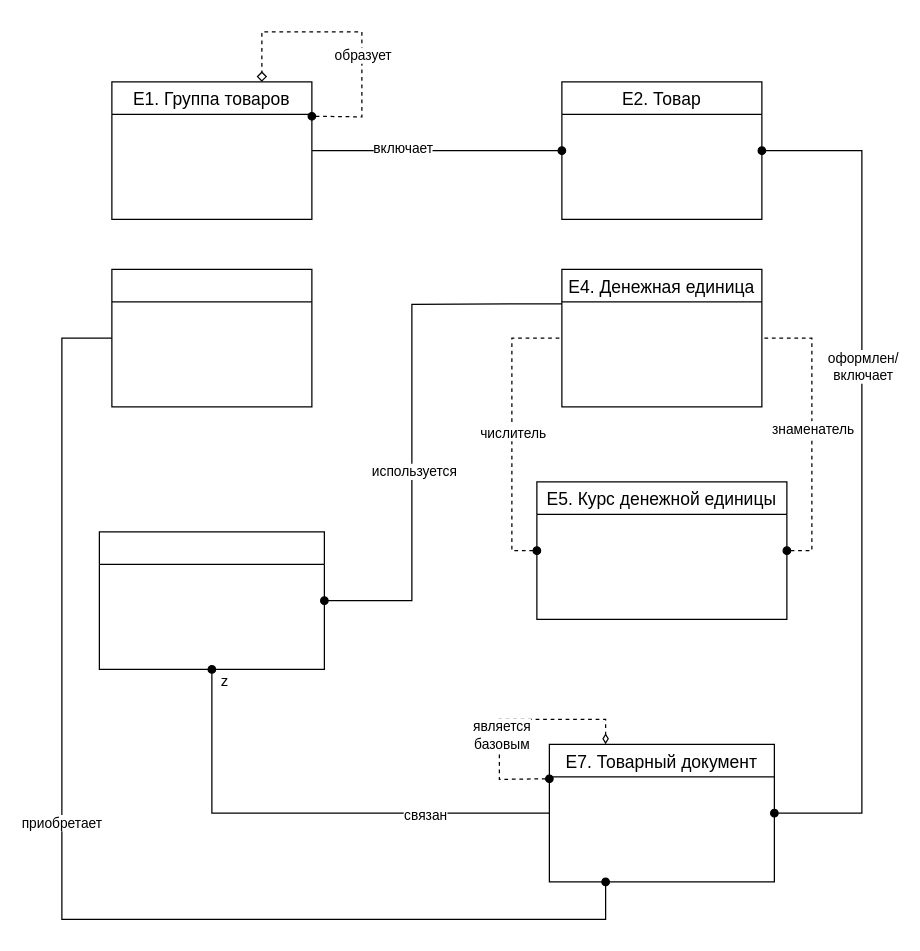
Image size: 920x951. Some labels were removed from this diagram. The shapes that lost their labels are listed below. From the top down, each one's box as (x1, y1, x2, y2) in pixels, then its label:
(111, 268, 312, 407): E3. Фирма покупатель
(98, 531, 324, 669): E6. Платёжный документ
